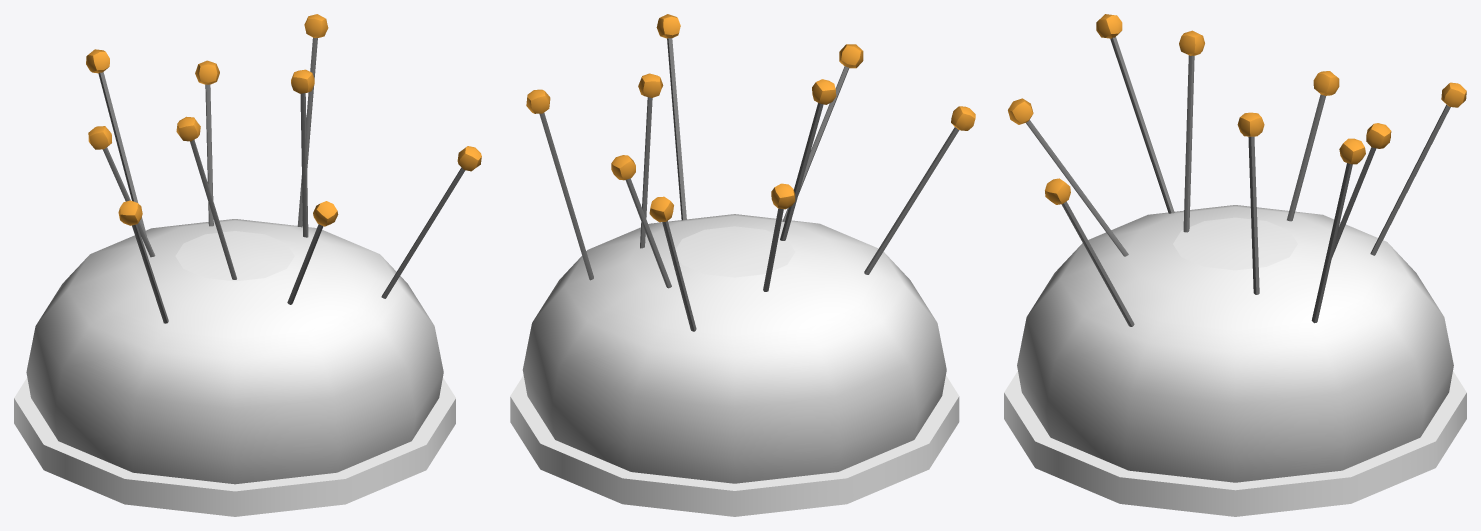
Rendered from pincushion-2.fbx.
3 views of the same model, side by side, from view 1: azimuth 30°, elevation 25°; view 2: azimuth 150°, elevation 25°; view 3: azimuth 270°, elevation 25° (orthographic). The views are drawn at different scales.
Parts seen in each view (by area): view 1: pincushion-2; view 2: pincushion-2; view 3: pincushion-2.
Boxes of the visible parts, x1,y1,x2,y2 form: pincushion-2: (14, 14, 481, 516); pincushion-2: (510, 14, 975, 516); pincushion-2: (1004, 14, 1466, 516).
Size of the model in its own units: 8.67 by 7.29 by 8.67.
8 materials, 3 textured.
